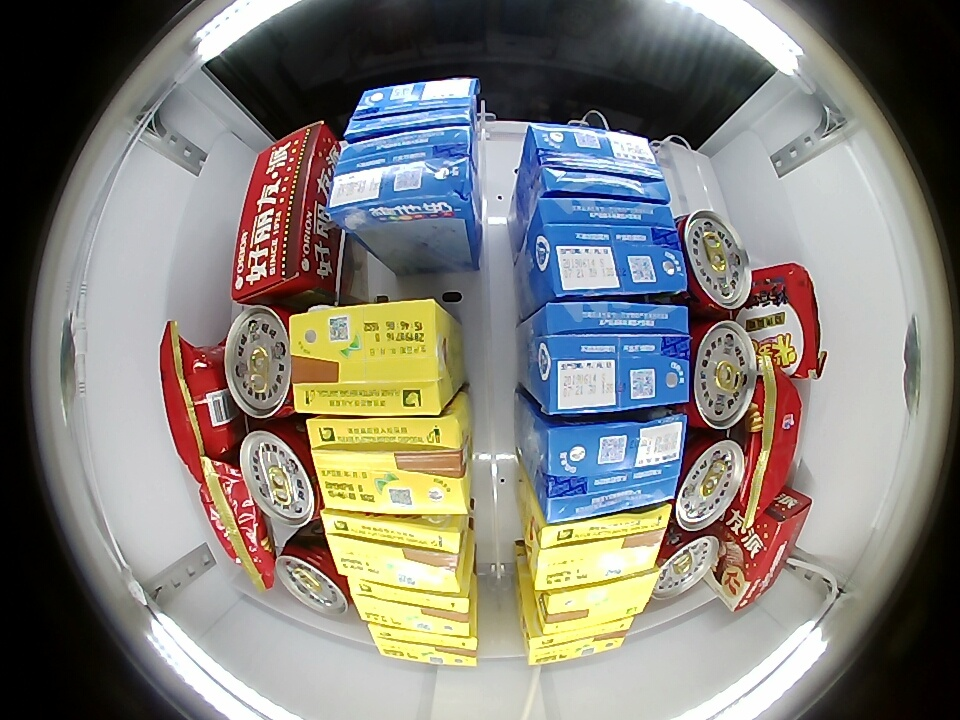haoliyou: (232, 121, 338, 304), (715, 494, 812, 612)
kaomo_shaokao: (161, 341, 244, 460), (196, 461, 276, 582), (747, 263, 822, 382), (734, 382, 801, 508)
wangzainiunai: (238, 420, 324, 530), (224, 304, 300, 420), (677, 208, 752, 316), (686, 319, 756, 430), (671, 433, 745, 532), (275, 534, 355, 617), (649, 525, 720, 601)
weitanai: (525, 302, 693, 414), (530, 410, 687, 522), (526, 196, 688, 299), (327, 125, 479, 234), (523, 122, 671, 205), (344, 78, 484, 144)
weitaningmeng: (290, 301, 453, 417), (309, 413, 472, 516), (322, 511, 472, 596), (528, 504, 671, 591), (527, 569, 660, 635), (347, 581, 477, 637), (523, 617, 634, 666), (367, 625, 479, 668)
